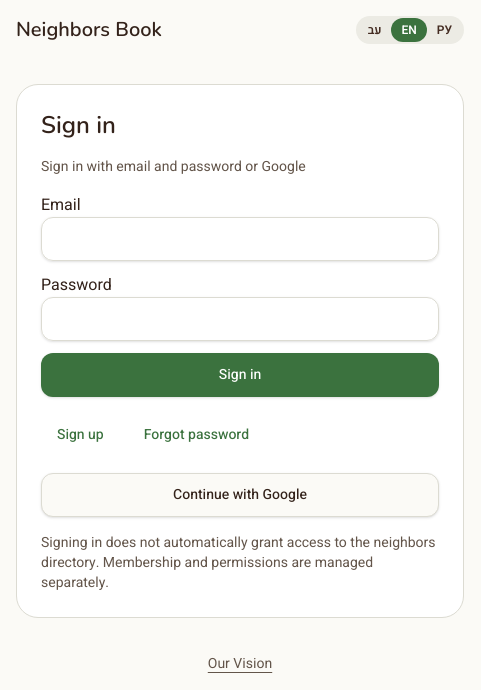
Test case: requests a reset with a fixed destination and an enumeration-safe message
Click the button "Forgot password" at (196, 435), box [128,413,265,457]
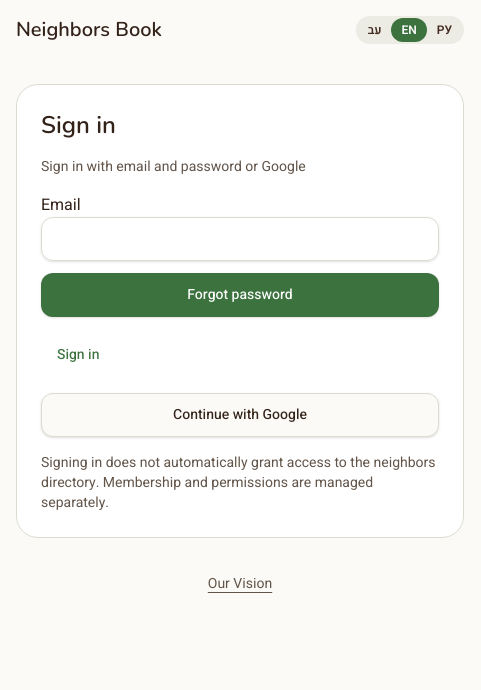
Type "unknown@example.test" into the field labelled "Email" at (240, 239), box [41,217,439,261]
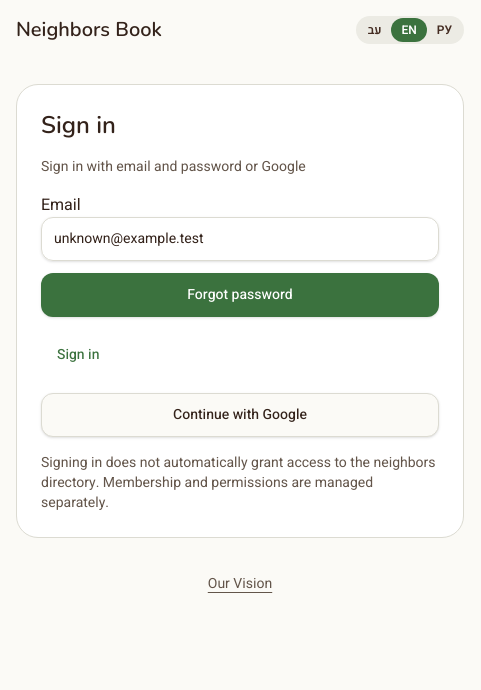
Click the button "Forgot password" at (240, 295), box [41,273,439,317]
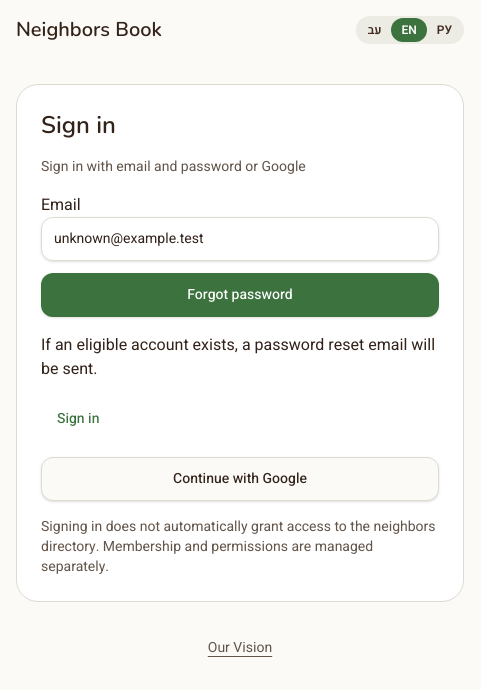
Expected: the message reads "If an eligible account exists, a password reset email will be sent.", [41,333,435,381]
